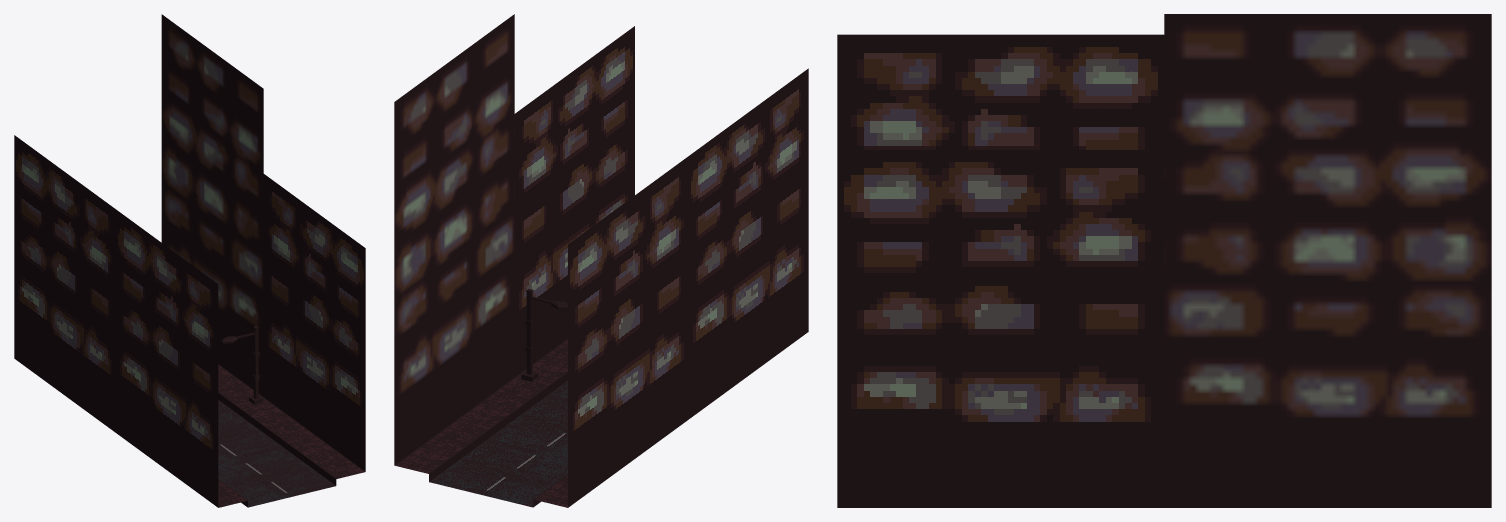
Rendered from Straight_2.fbx.
3 renders of one model, left to right at view 1: azimuth 30°, elevation 25°; view 2: azimuth 150°, elevation 25°; view 3: azimuth 270°, elevation 25°, orthographic. The views are drawn at different scales.
Visible parts, largest first — view 1: pPlane22, pPlane7, pPlane23, pPlane24, Road, Road1, pPlane6, pPlane18, pPlane19, Lamp1, pPlane5; view 2: pPlane22, pPlane23, pPlane7, pPlane24, Road3, Road2, pPlane20, pPlane19, pPlane18, Lamp1, pPlane11, Stupleft4 (+1 smaller); view 3: pPlane22, pPlane24, pPlane7.
Part boxes in pixels (<box>): pPlane22: <box>161,14,263,396</box>; pPlane7: <box>116,210,218,507</box>; pPlane23: <box>14,135,116,432</box>; pPlane24: <box>263,174,365,471</box>; Road: <box>218,449,335,507</box>; Road1: <box>218,411,284,464</box>; pPlane6: <box>285,434,365,478</box>; pPlane18: <box>234,397,314,441</box>; pPlane19: <box>218,364,263,404</box>; Lamp1: <box>221,326,263,404</box>; pPlane5: <box>218,479,247,507</box>; pPlane22: <box>394,14,514,465</box>; pPlane23: <box>568,156,688,507</box>; pPlane7: <box>688,68,808,419</box>; pPlane24: <box>514,26,634,376</box>; Road3: <box>429,438,567,507</box>; Road2: <box>489,394,567,457</box>; pPlane20: <box>394,421,488,473</box>; pPlane19: <box>455,377,548,429</box>; pPlane18: <box>515,339,567,385</box>; Lamp1: <box>521,289,567,381</box>; pPlane11: <box>533,474,567,507</box>; Stupleft4: <box>489,386,549,437</box>; pPlane22: <box>1164,14,1491,507</box>; pPlane24: <box>837,150,1164,507</box>; pPlane7: <box>837,34,1164,149</box>.
Bounding box in the file's own units: 10 × 20.44 × 24.
Materials: 6 (6 with a texture image).
